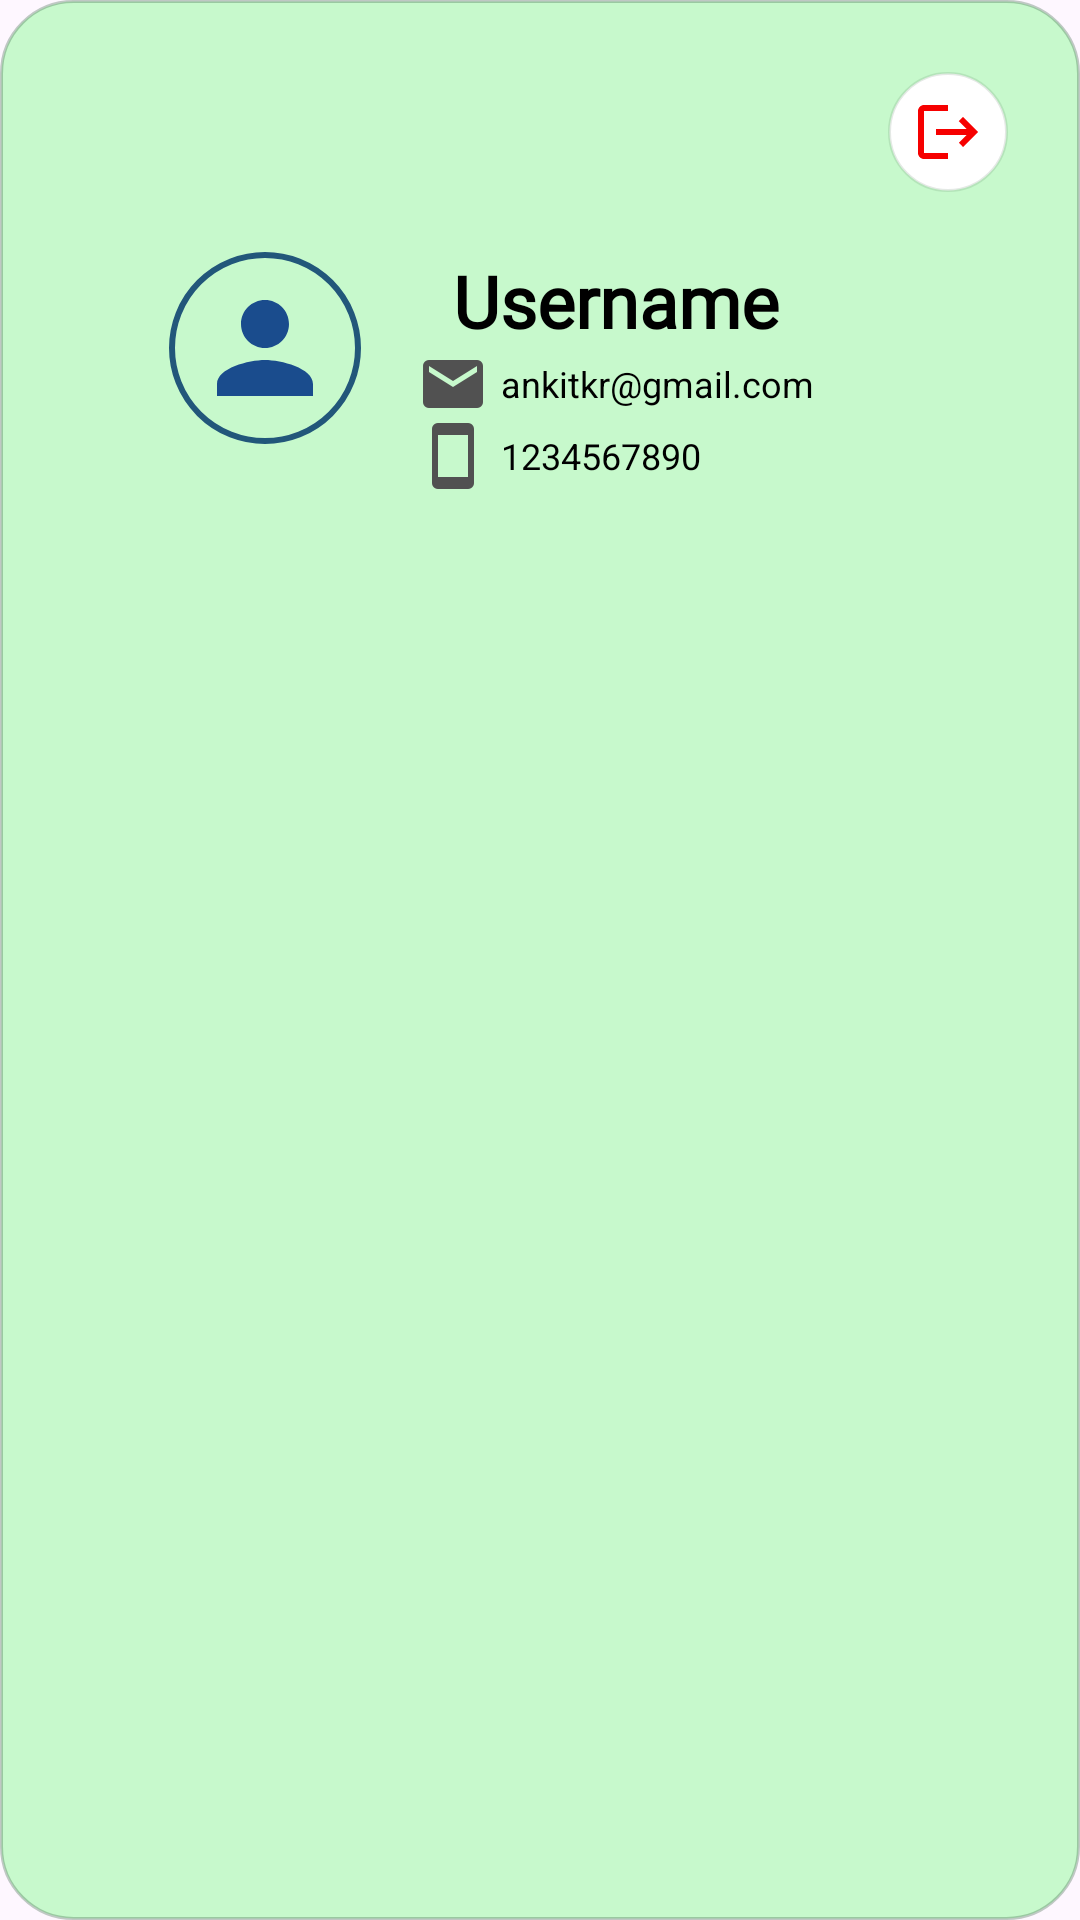

Where icons sit on this 1080px x 1920px app screen, as region(x1, y1, x2, y2):
person: region(169, 252, 361, 444)
smartphone: region(432, 423, 474, 489)
